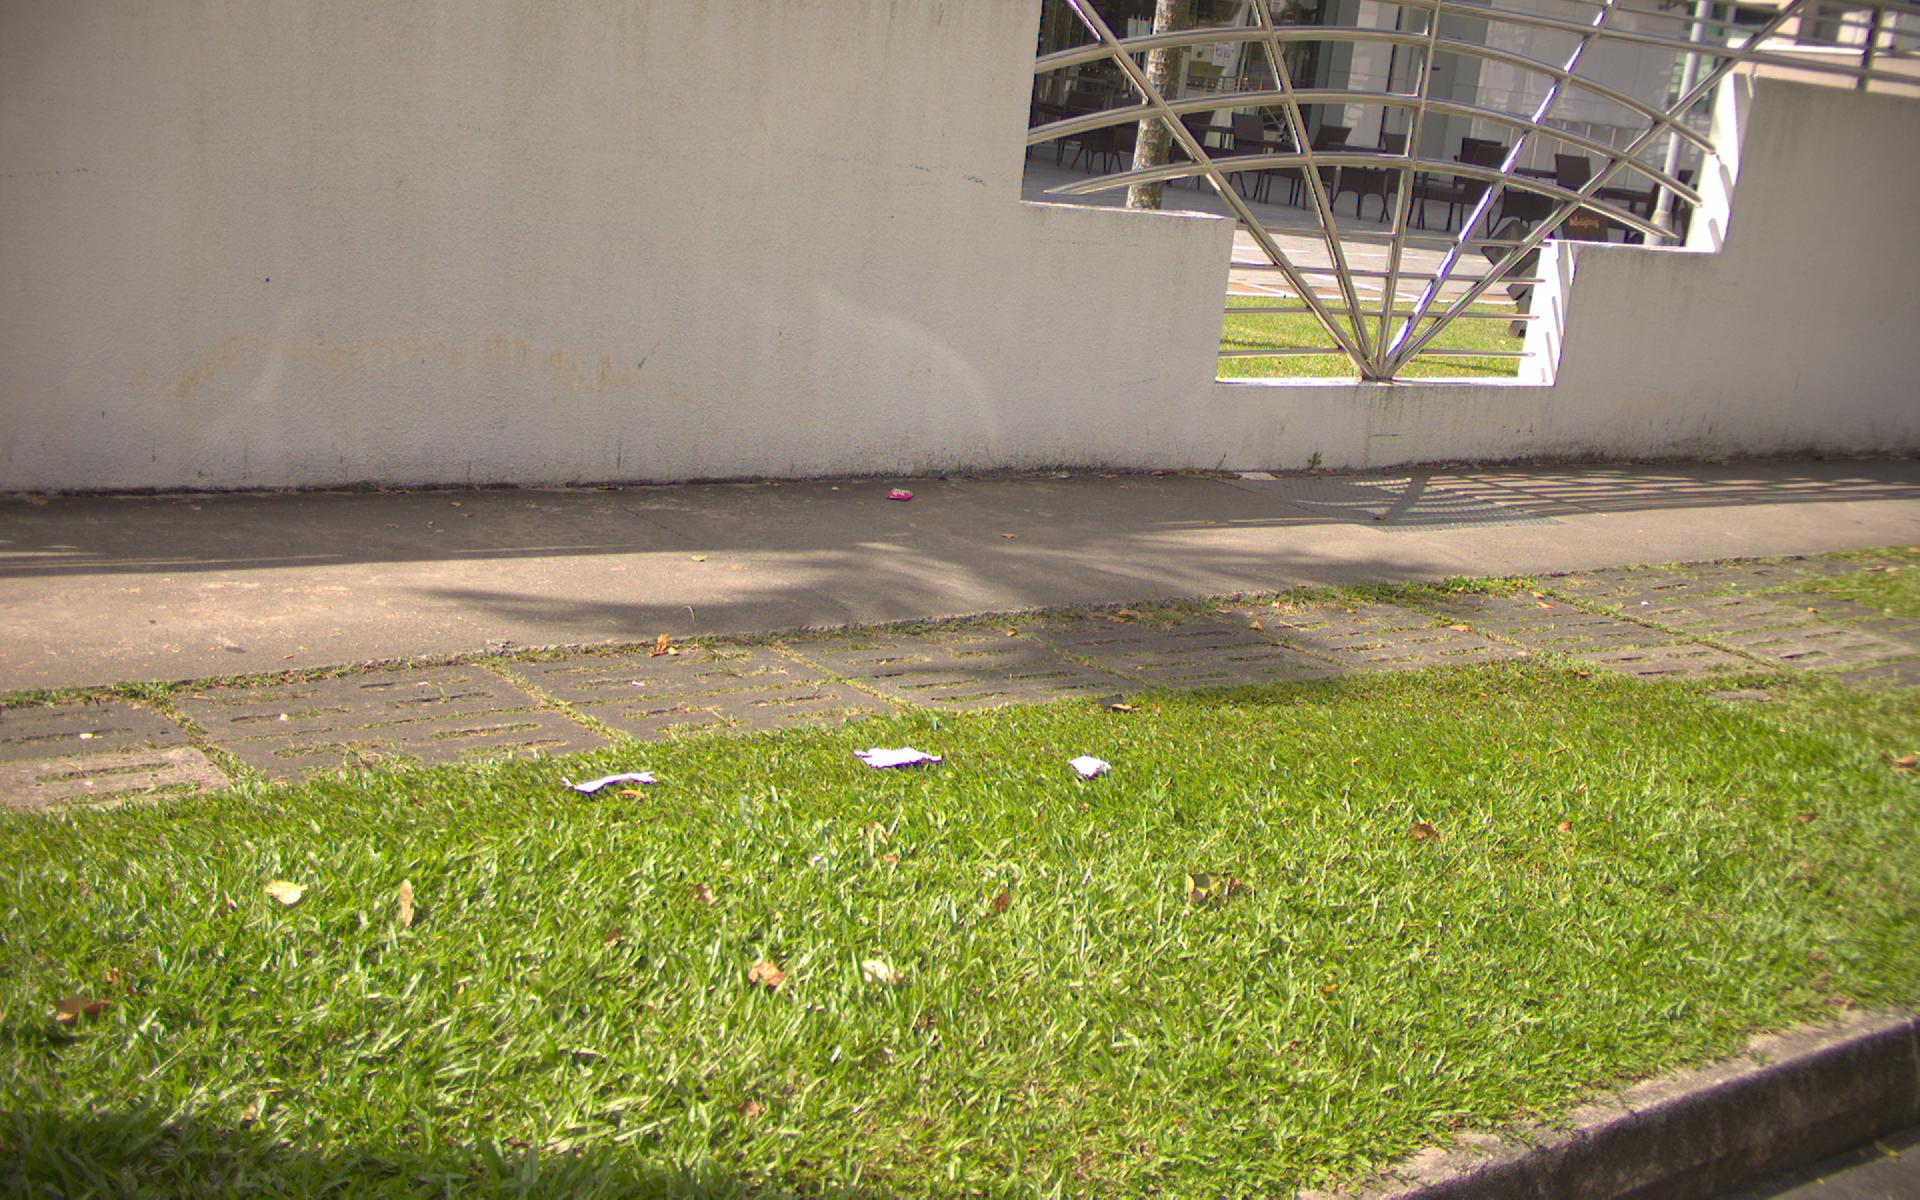road_turf_low: (19, 658, 1914, 1188)
